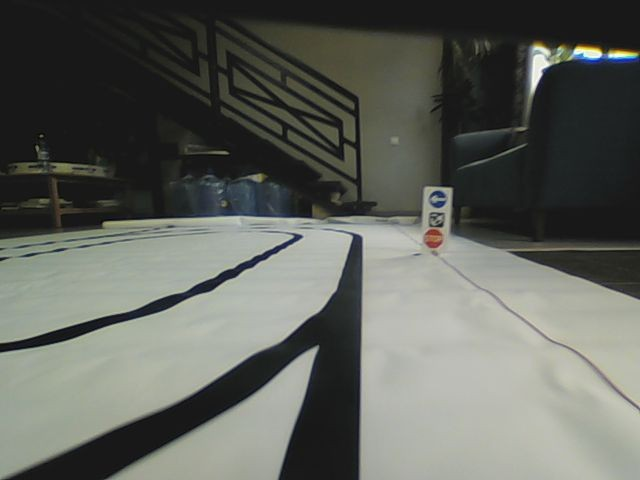Stop: (422, 228, 444, 249)
